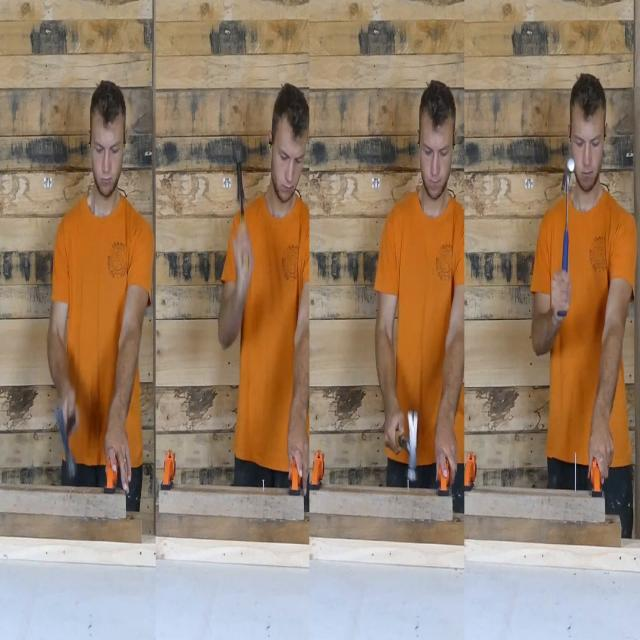hammer: (558, 152, 576, 323), (395, 410, 426, 489)
